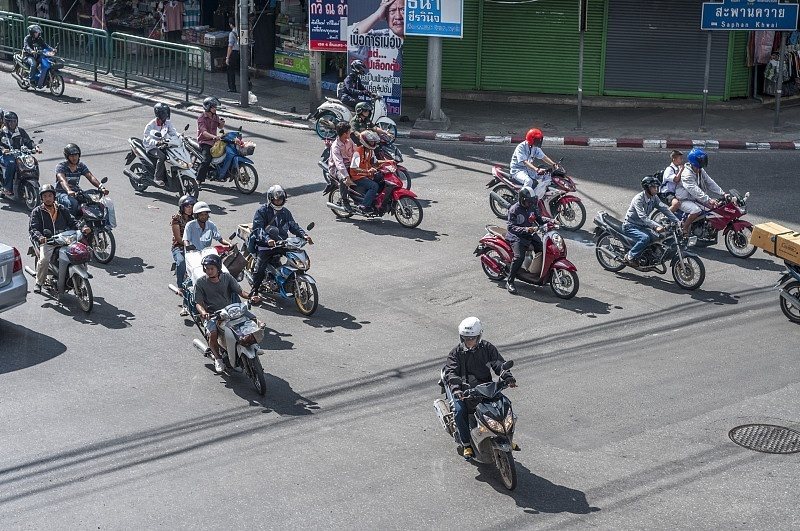non-vehicle: (434, 361, 523, 487), (185, 287, 268, 391), (596, 206, 703, 285), (476, 216, 580, 294), (322, 156, 424, 225), (245, 221, 318, 314), (492, 158, 579, 224), (25, 220, 86, 307), (126, 127, 196, 198), (190, 123, 256, 192), (63, 175, 114, 259), (692, 187, 755, 249), (0, 139, 42, 206), (13, 48, 66, 95)
